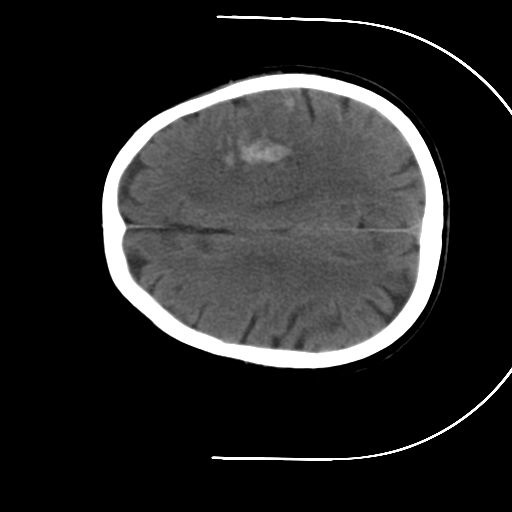a: (203, 114, 305, 190)
